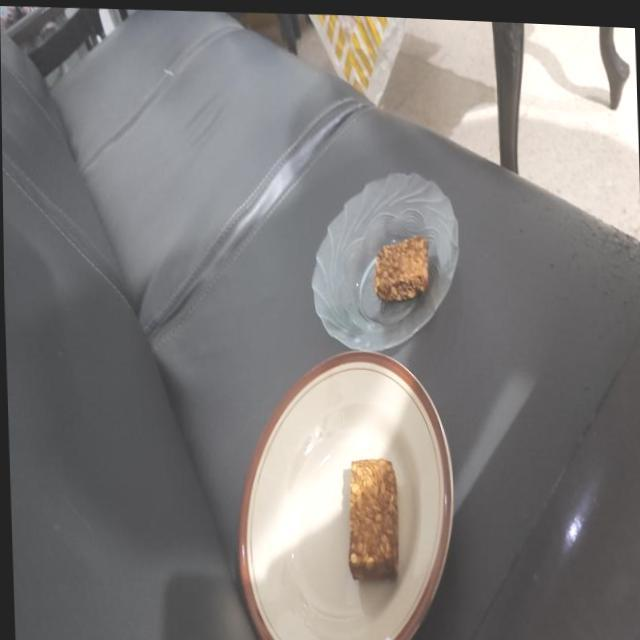tempe_goreng: (348, 458, 398, 579), (374, 234, 428, 302)
